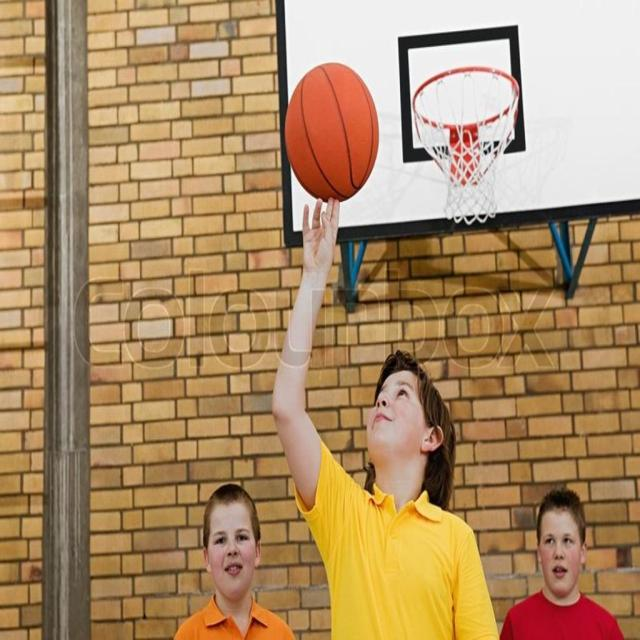Face: (358, 367, 436, 474), (202, 506, 264, 596), (536, 504, 591, 585)
